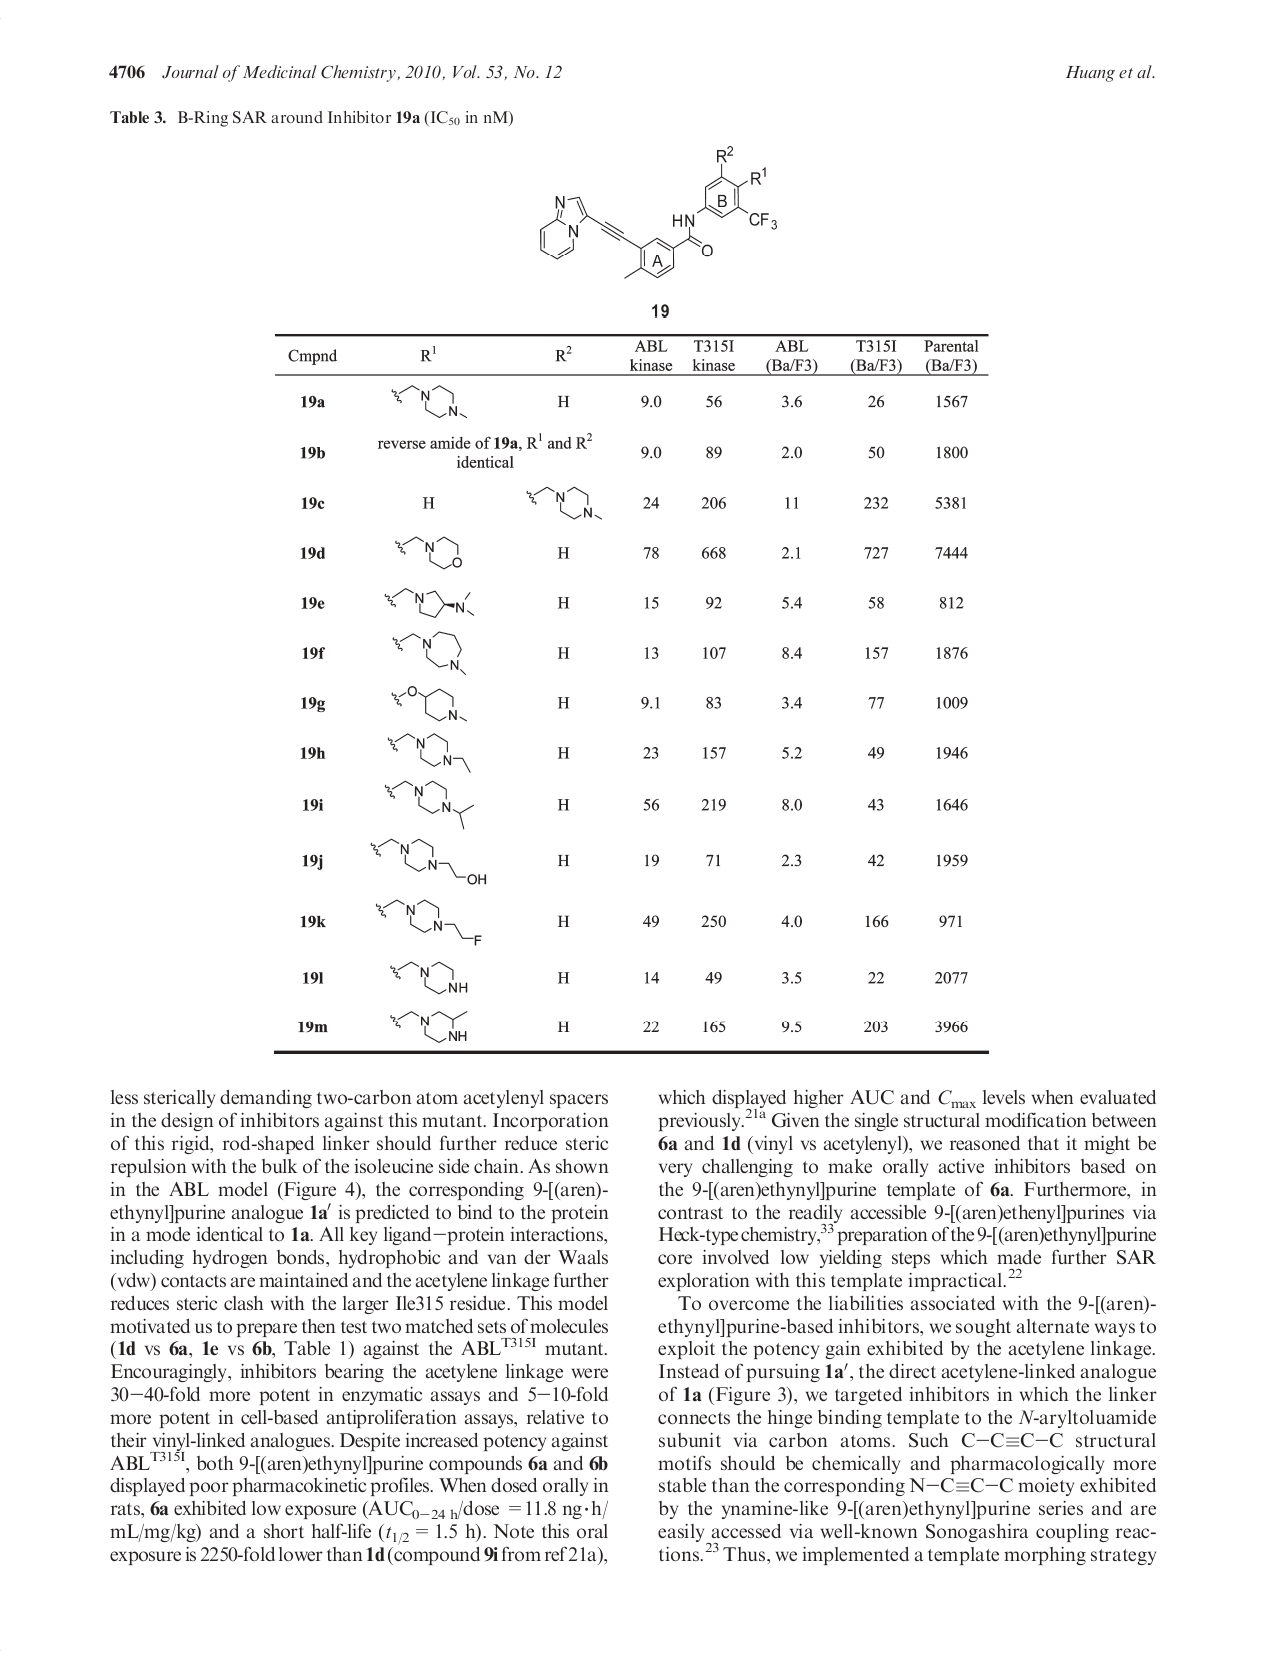exist_molecular: (539, 145, 778, 279), (368, 835, 488, 888), (375, 896, 484, 948), (382, 779, 476, 833), (383, 731, 475, 775), (394, 628, 469, 680), (386, 1005, 469, 1045), (390, 684, 467, 725), (390, 380, 468, 420), (523, 483, 601, 523), (382, 586, 475, 620), (390, 960, 471, 997), (394, 532, 461, 571)
